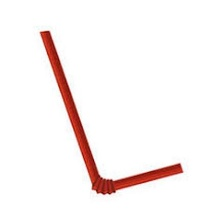drinking_straw: (26, 25, 188, 202)
